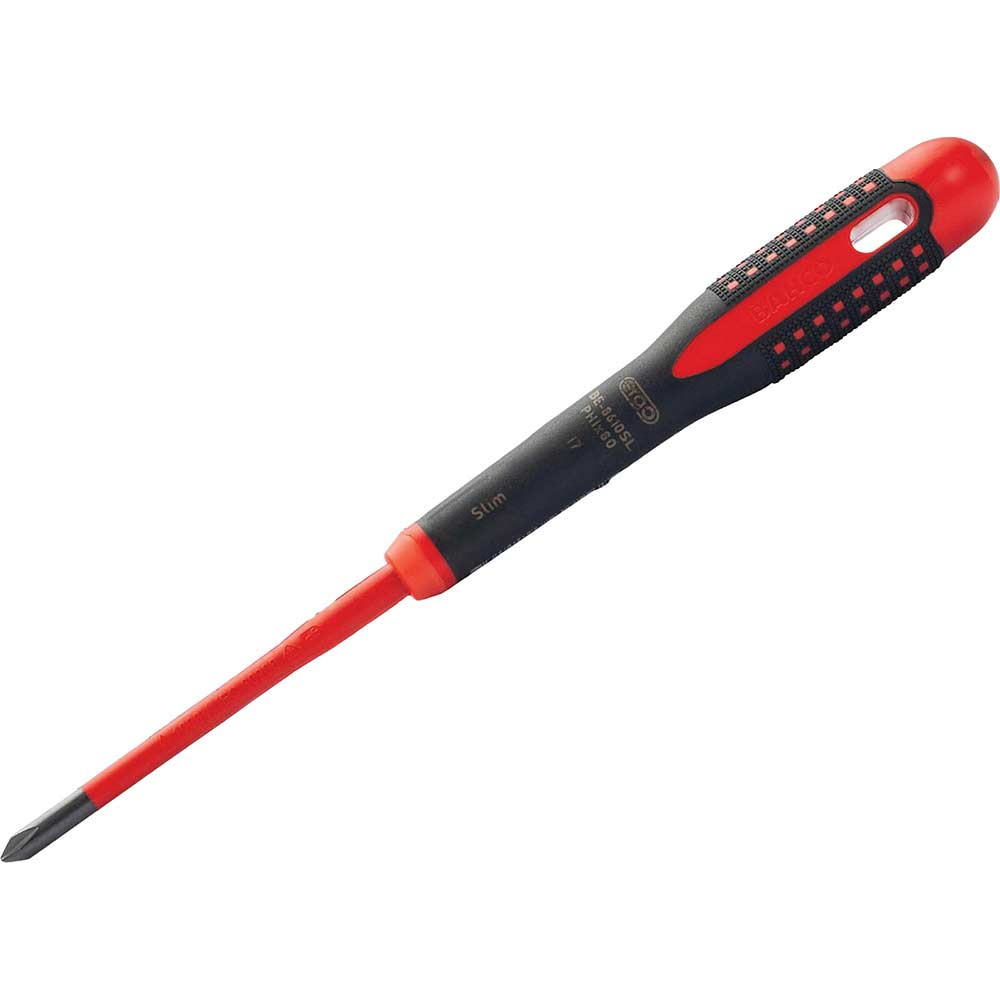screwdriver: (1, 134, 999, 863)
